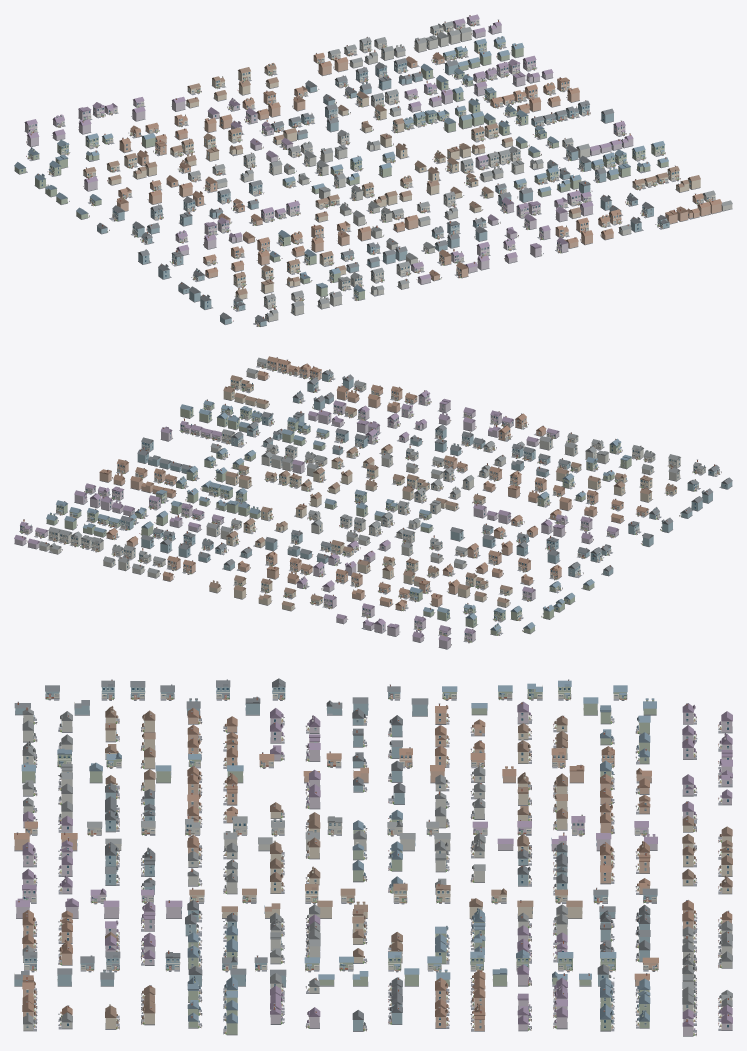
The model's file is ember-ridge.glb.
3 views of the same model, one above another, from view 1: azimuth 30°, elevation 25°; view 2: azimuth 150°, elevation 25°; view 3: azimuth 270°, elevation 25° (orthographic). The views are drawn at different scales.
Bounding box in the file's own units: 354 × 8.31 × 314.
